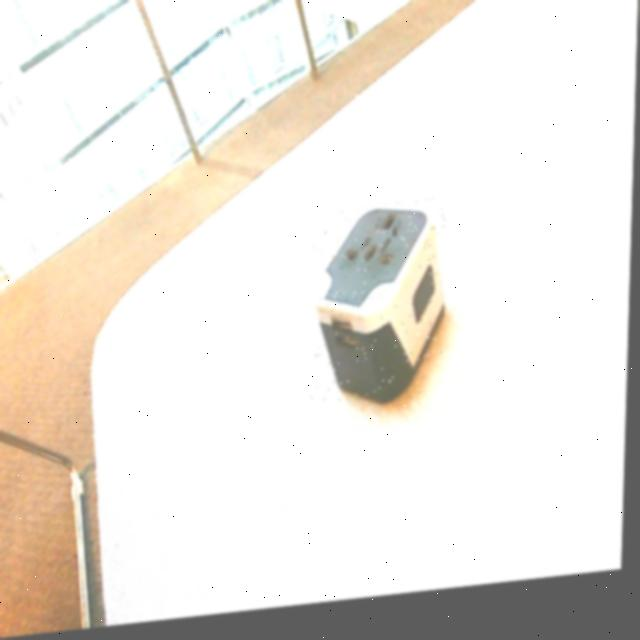adapter: (312, 205, 449, 419)
